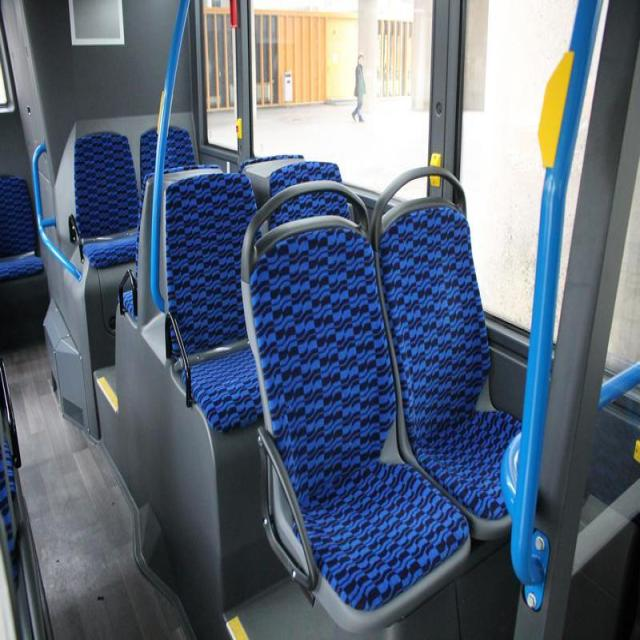empty-seat-frontal: (236, 181, 474, 631), (370, 164, 533, 536)
